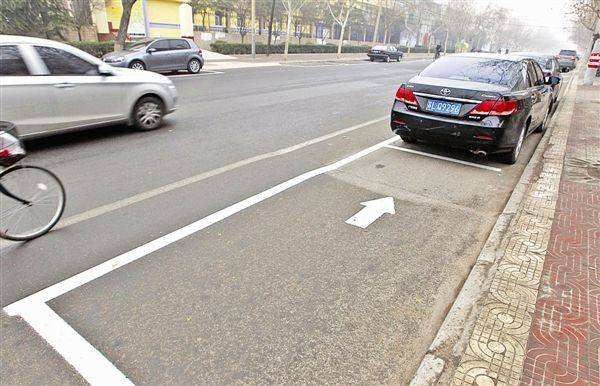slot_nocar: (13, 139, 515, 386), (271, 52, 346, 77), (335, 47, 378, 70)
